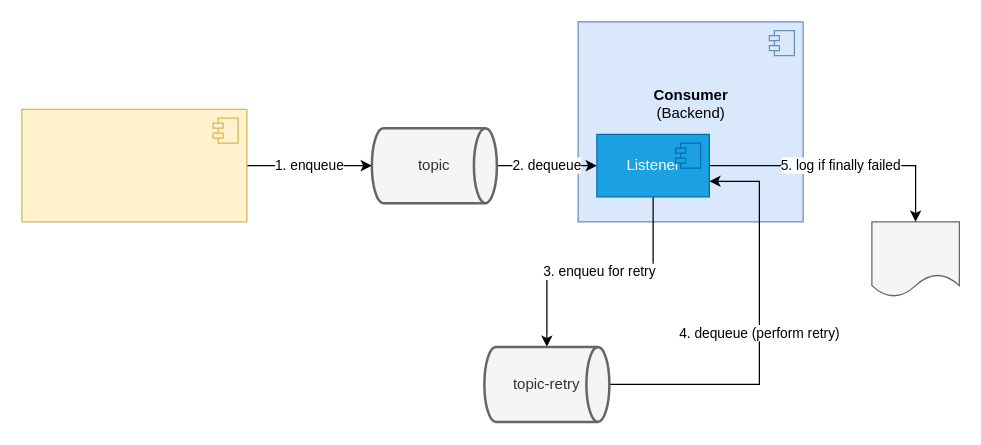
The diagram is 981 pixels wide and 445 high, and some of its shapes have lost their labels. The shapes that lost their labels are listed below. From the top down, each one's box as (x1, y1, x2, y2) in pixels, then its label:
(21, 108, 247, 222): Producer (Client)
(871, 221, 959, 297): Log
